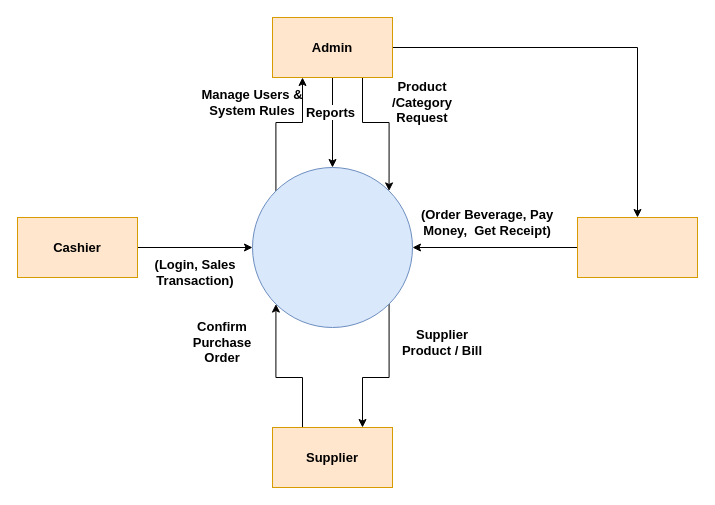
Some shapes in this 715 by 505 pixel diagram are drawn without their labels. Here are the shapes that lost their labels. From the top down, the box of each, then its label:
(252, 166, 412, 328): 0.0 PU COFFEE SYSTEM (POS & STOCKS)
(576, 216, 698, 278): Customer
